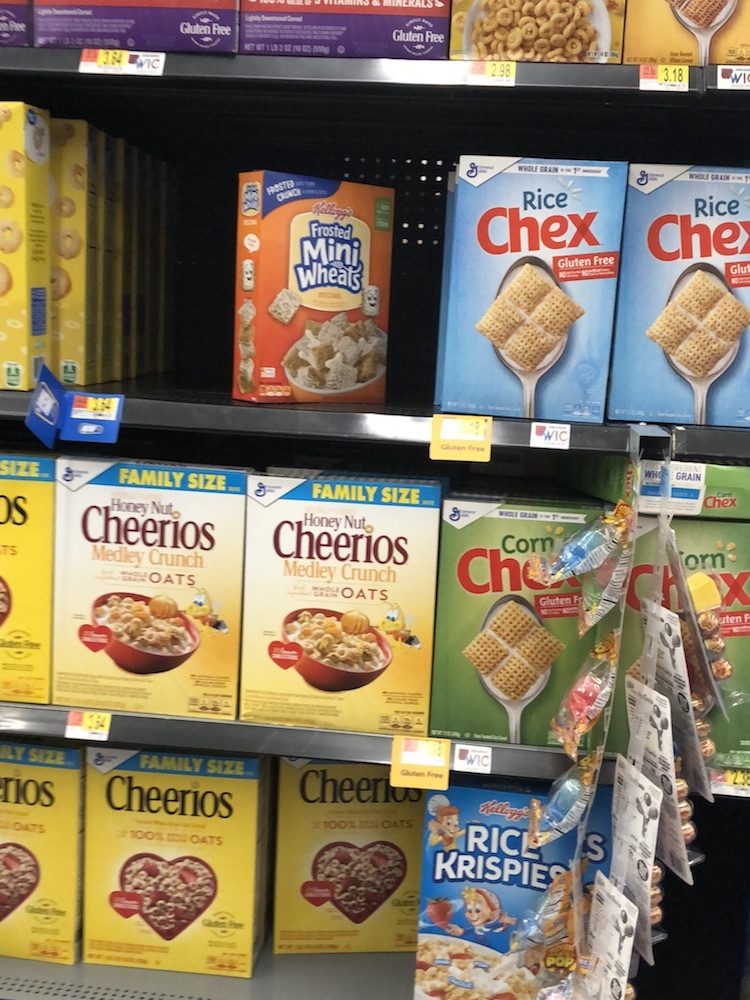Frosted Mini Original -9295869: (246, 184, 395, 404)
